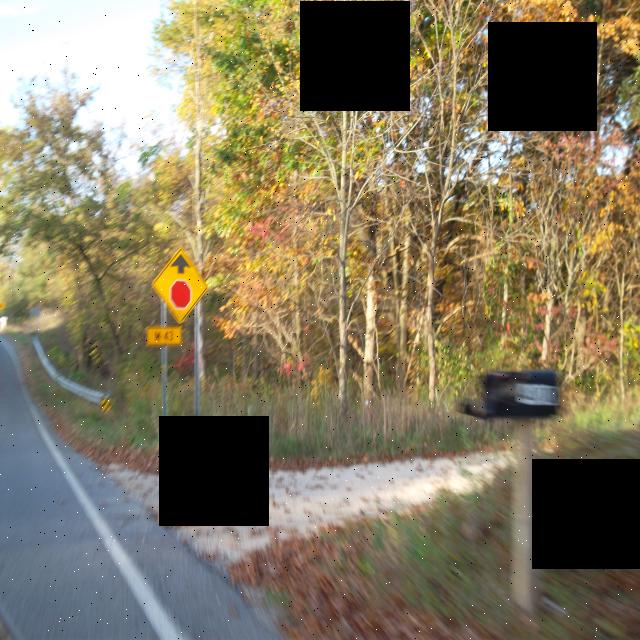stop: (169, 279, 192, 310)
warning: (150, 243, 210, 325), (145, 322, 188, 350)
